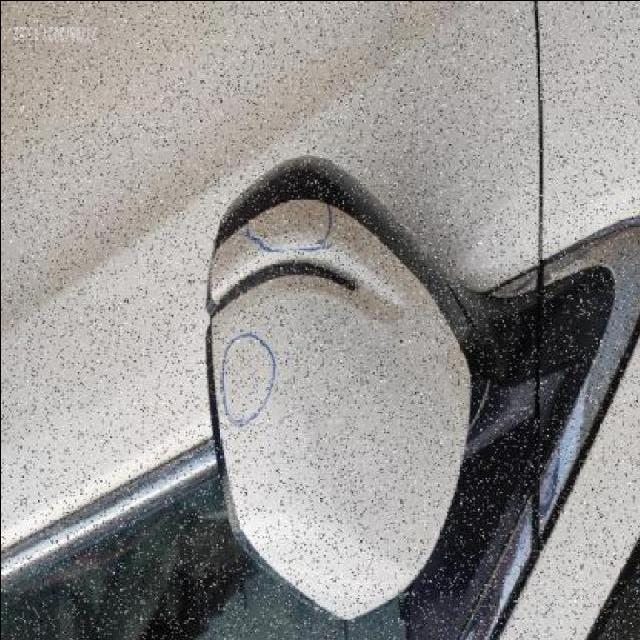Sidemirror-Damage: (190, 136, 474, 612)
